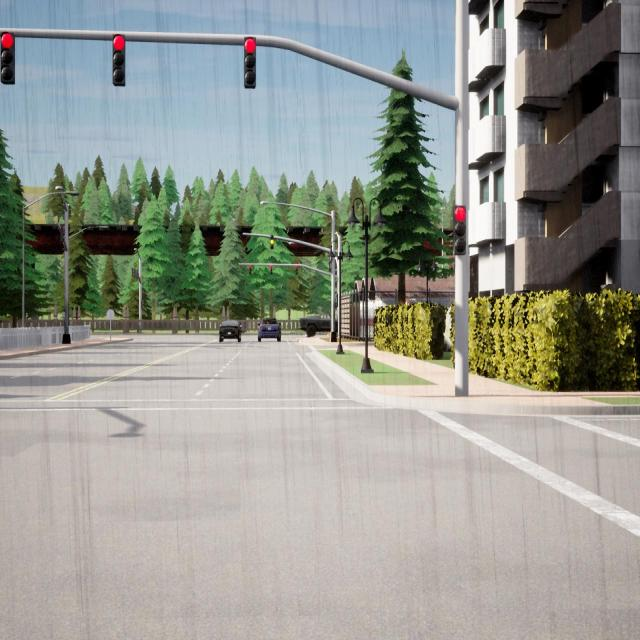Traffic_Signs: (107, 310, 114, 319)
Vehicle: (299, 312, 338, 336), (257, 318, 281, 342), (219, 320, 241, 342)
traffic_light: (0, 32, 15, 84), (453, 205, 466, 255), (113, 35, 125, 86), (244, 37, 256, 88), (60, 227, 64, 241), (270, 235, 274, 248), (335, 294, 338, 306), (270, 264, 273, 274), (249, 264, 251, 274), (296, 265, 298, 275), (141, 300, 143, 309), (134, 269, 136, 278), (132, 268, 134, 276), (137, 270, 138, 278)
